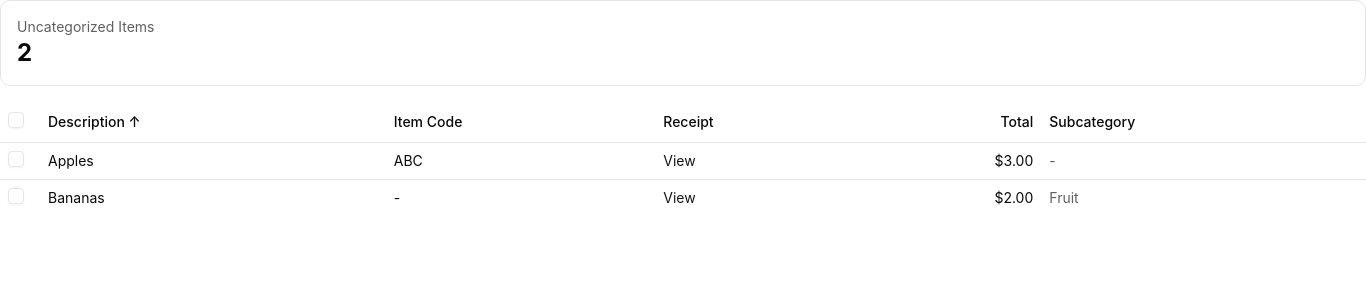
Scenario: UncategorizedItems › shows bulk action toolbar when items are selected
Click the checkbox named "Select Apples": (16, 158) [8,150,24,166]
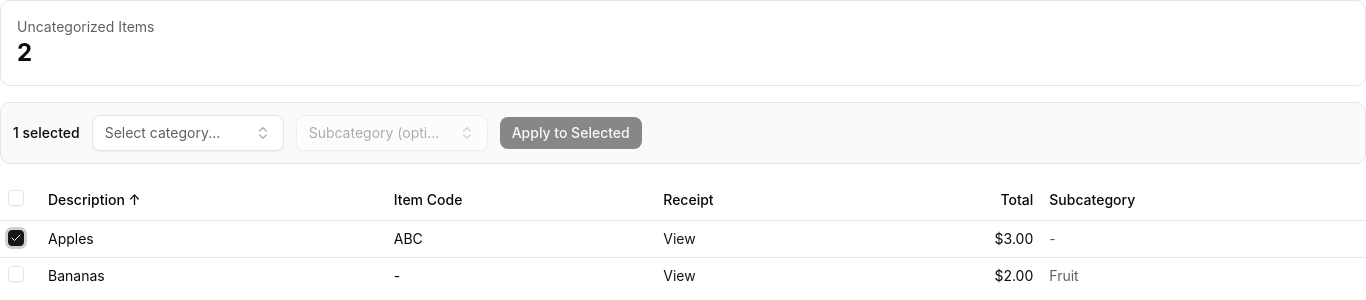
Now the text "1 selected" is shown, box [13,123,80,143]
Now the button "Apply to Selected" is shown, box [500,117,642,149]
